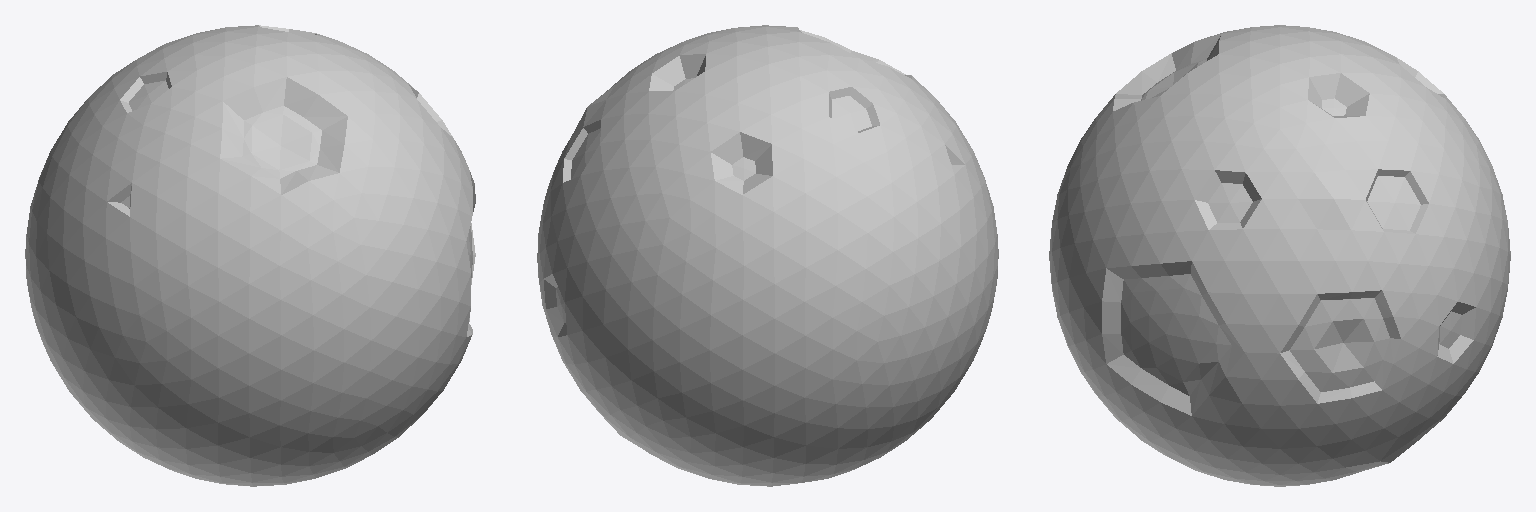
Rendered from lowpoly-moon.obj.
The picture shows the model from 3 angles: view 1: azimuth 30°, elevation 25°; view 2: azimuth 150°, elevation 25°; view 3: azimuth 270°, elevation 25°; orthographic projection.
Parts seen in each view (by area): view 1: Layer_1; view 2: Layer_1; view 3: Layer_1.
Part boxes in pixels (x1,y1,x2,y2): Layer_1: (25, 25, 475, 486); Layer_1: (537, 25, 998, 486); Layer_1: (1049, 25, 1510, 486).
Size of the model in its own units: 2 by 2 by 2.